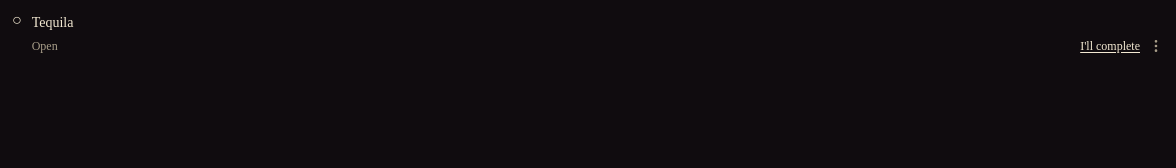
Scenario: <ShoppingItemCard /> — v2 overflow menu (spec §4) › Permanent purge is absent when !canDelete
Click the button named "Item options" at [1156, 46], box [1148,38,1164,54]
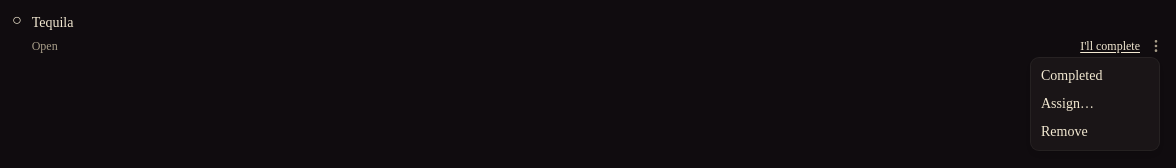
expect the menu is shown: met, box [1031,58,1159,150]
